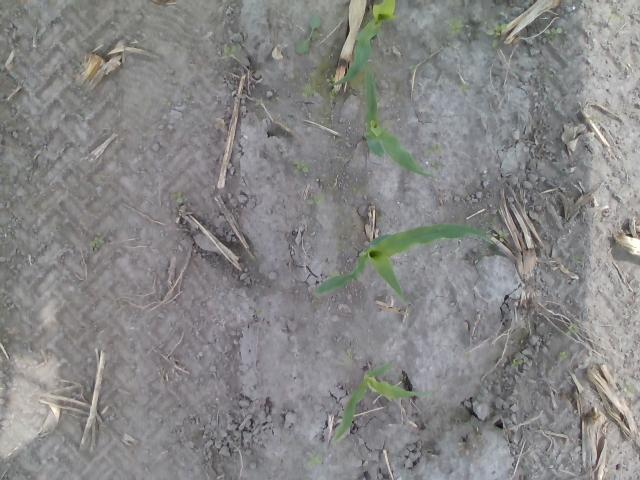Maize: (309, 220, 494, 307), (360, 66, 436, 177), (331, 360, 432, 440), (332, 0, 398, 85)
Weeds: (295, 17, 321, 55), (486, 21, 508, 48), (442, 17, 463, 36), (292, 158, 310, 174), (622, 380, 636, 399), (326, 74, 335, 100), (492, 229, 510, 242), (544, 26, 563, 38), (606, 11, 622, 25), (308, 452, 322, 468), (307, 194, 325, 206), (222, 45, 236, 59), (300, 84, 316, 96), (426, 142, 442, 154), (89, 236, 105, 248), (169, 190, 183, 203), (342, 347, 352, 363), (556, 351, 569, 362), (566, 324, 578, 335), (542, 67, 554, 78), (510, 357, 523, 367), (458, 84, 468, 94), (429, 161, 439, 170), (161, 97, 171, 106), (408, 63, 417, 72), (182, 92, 190, 102), (254, 308, 264, 316), (574, 256, 582, 264), (522, 461, 529, 469), (255, 98, 263, 104), (400, 374, 406, 380), (464, 354, 470, 360)
